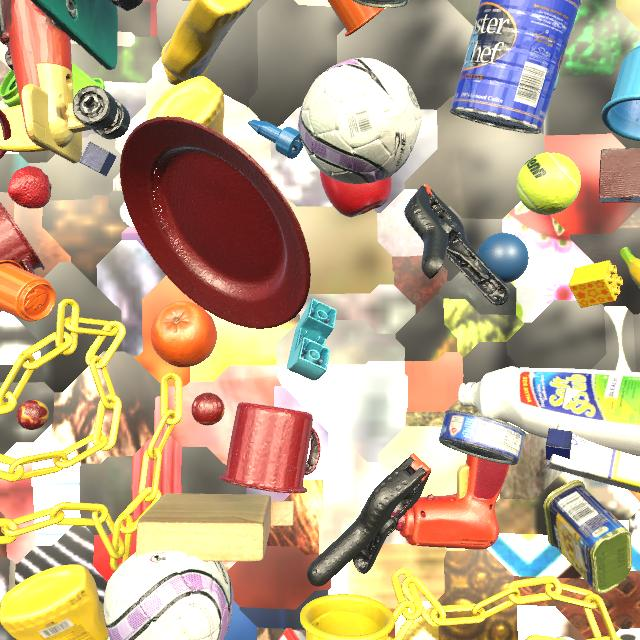ycb_002_master_chef_can: (450, 0, 582, 134)
ycb_004_sugar_box: (547, 388, 640, 493)
ycb_005_tomato_soup_can: (353, 0, 408, 8)
ycb_006_mustard_bottle: (0, 564, 109, 640), (161, 0, 253, 85), (146, 76, 226, 137)
ycb_007_tuna_fish_can: (439, 410, 526, 465)
ycb_009_gelatin_box: (278, 628, 306, 640)
ycb_010_potted_meat_can: (543, 480, 632, 594)
ycb_011_banana: (619, 247, 640, 288)
ycb_012_strawberry: (8, 166, 52, 209)
ycb_013_apple: (320, 170, 392, 217)
ycb_017_orange: (150, 301, 217, 368)
